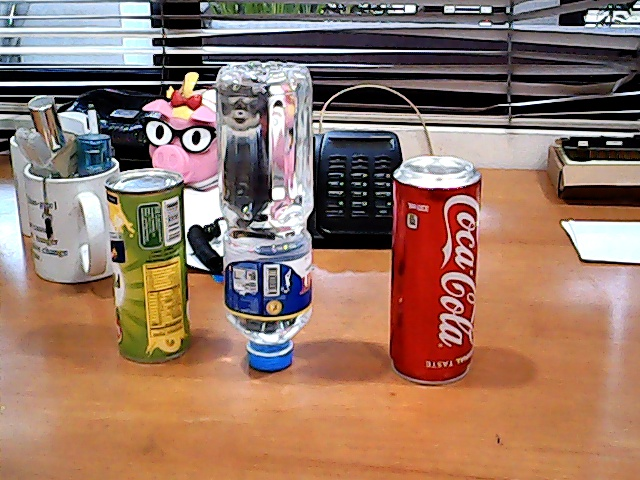Cola: (373, 140, 499, 392)
Pine Juice: (88, 162, 207, 368)
Summit Water: (203, 40, 331, 383)
